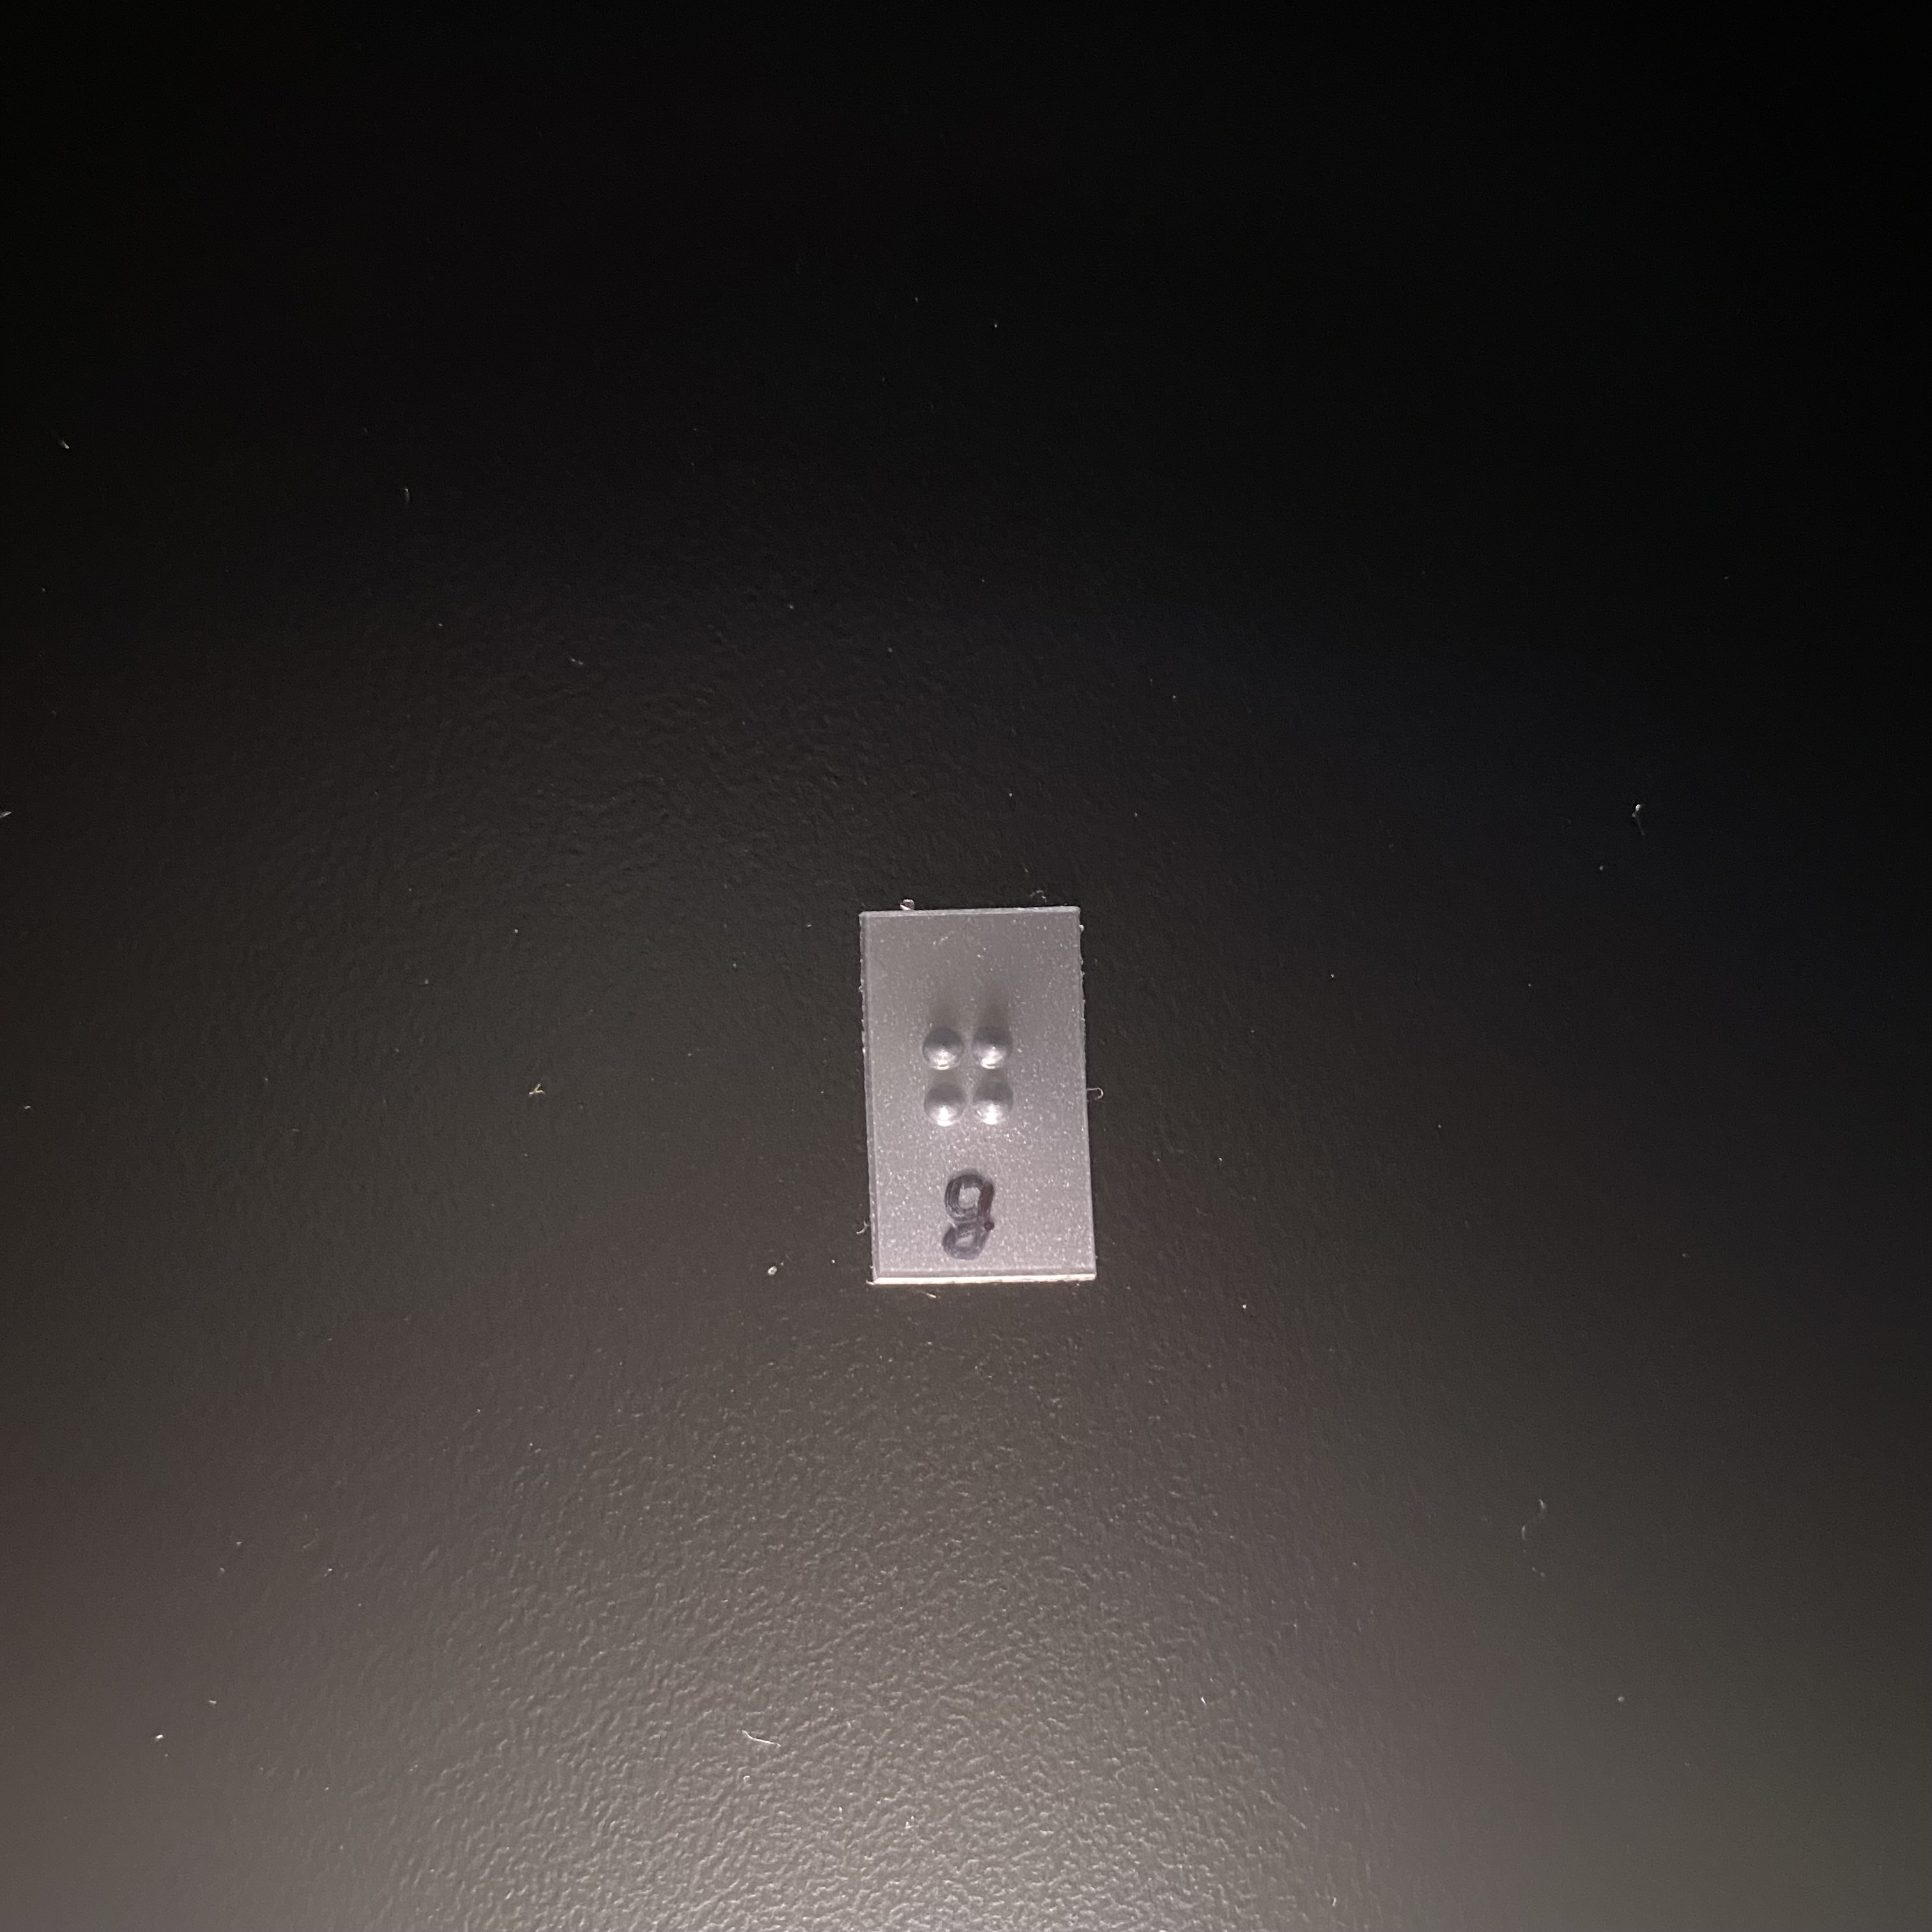g: (915, 995, 1034, 1192)
